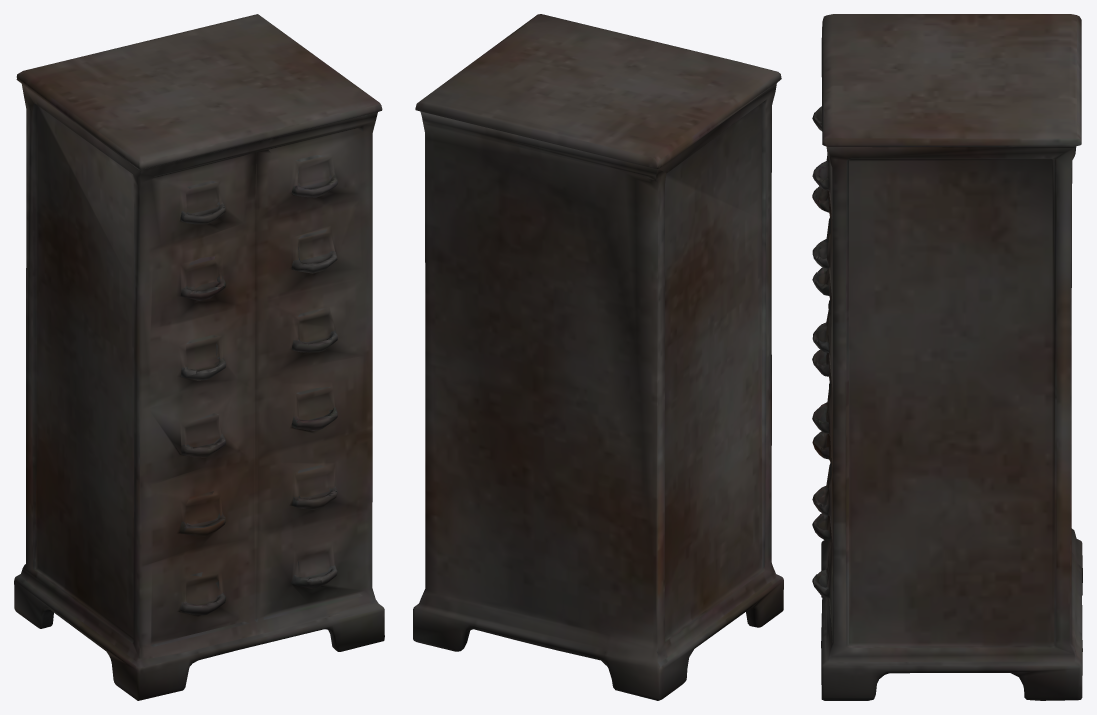
File: rustic-iron-filing-cabinet-v001.glb
3 views of the same model, side by side, from view 1: azimuth 30°, elevation 25°; view 2: azimuth 150°, elevation 25°; view 3: azimuth 270°, elevation 25° (orthographic). The views are drawn at different scales.
Parts seen in each view (by area): view 1: rustic-iron-filing-cabinet; view 2: rustic-iron-filing-cabinet; view 3: rustic-iron-filing-cabinet.
Boxes of the visible parts, x1,y1,x2,y2 form: rustic-iron-filing-cabinet: [14, 14, 384, 700]; rustic-iron-filing-cabinet: [413, 14, 783, 700]; rustic-iron-filing-cabinet: [812, 14, 1082, 700].
Bounding box in the file's own units: 0.7087 × 1.48 × 0.6408.
1 material, 1 textured.
